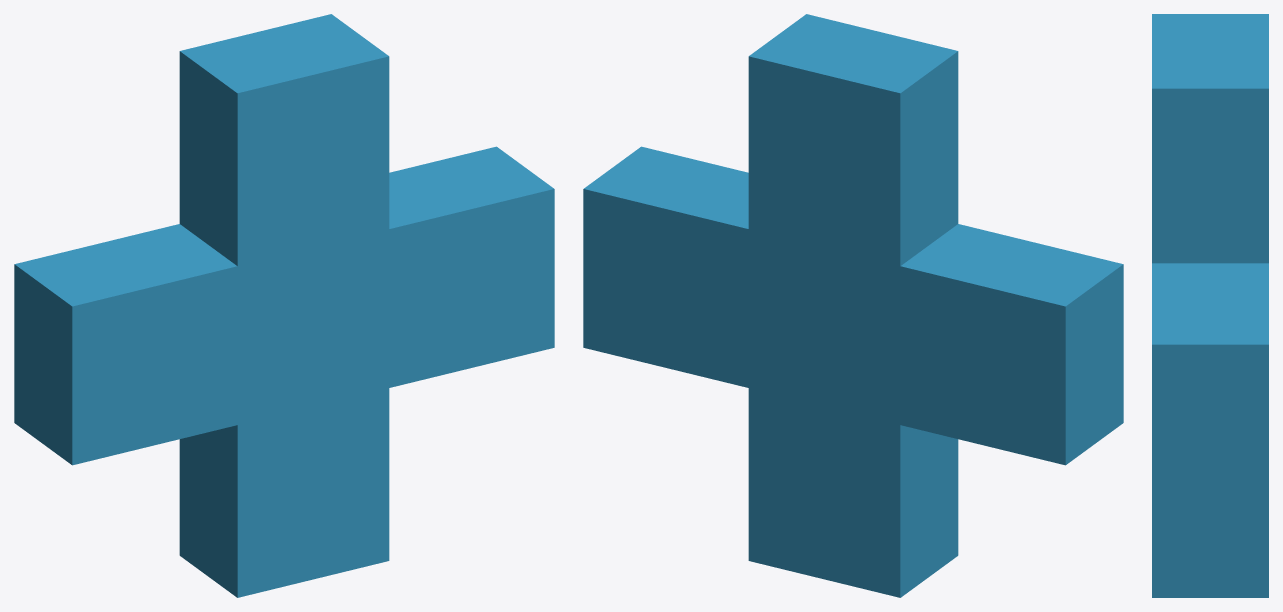
File: 01 plus.FBX
3 views of the same model, side by side, from view 1: azimuth 30°, elevation 25°; view 2: azimuth 150°, elevation 25°; view 3: azimuth 270°, elevation 25° (orthographic).
Parts seen in each view (by area): view 1: SM_Icon_Health_02; view 2: SM_Icon_Health_02; view 3: SM_Icon_Health_02.
Part boxes in pixels (bbox=[...]): SM_Icon_Health_02: bbox=[14, 14, 554, 597]; SM_Icon_Health_02: bbox=[583, 14, 1123, 597]; SM_Icon_Health_02: bbox=[1152, 14, 1268, 597].
Bounding box in the file's own units: 52.49 × 52.49 × 10.91.
